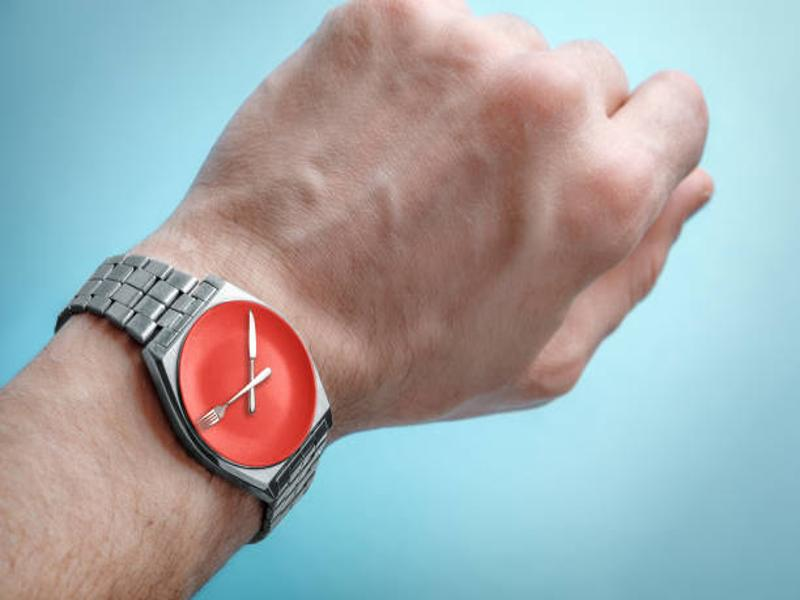watch: (53, 257, 334, 547)
